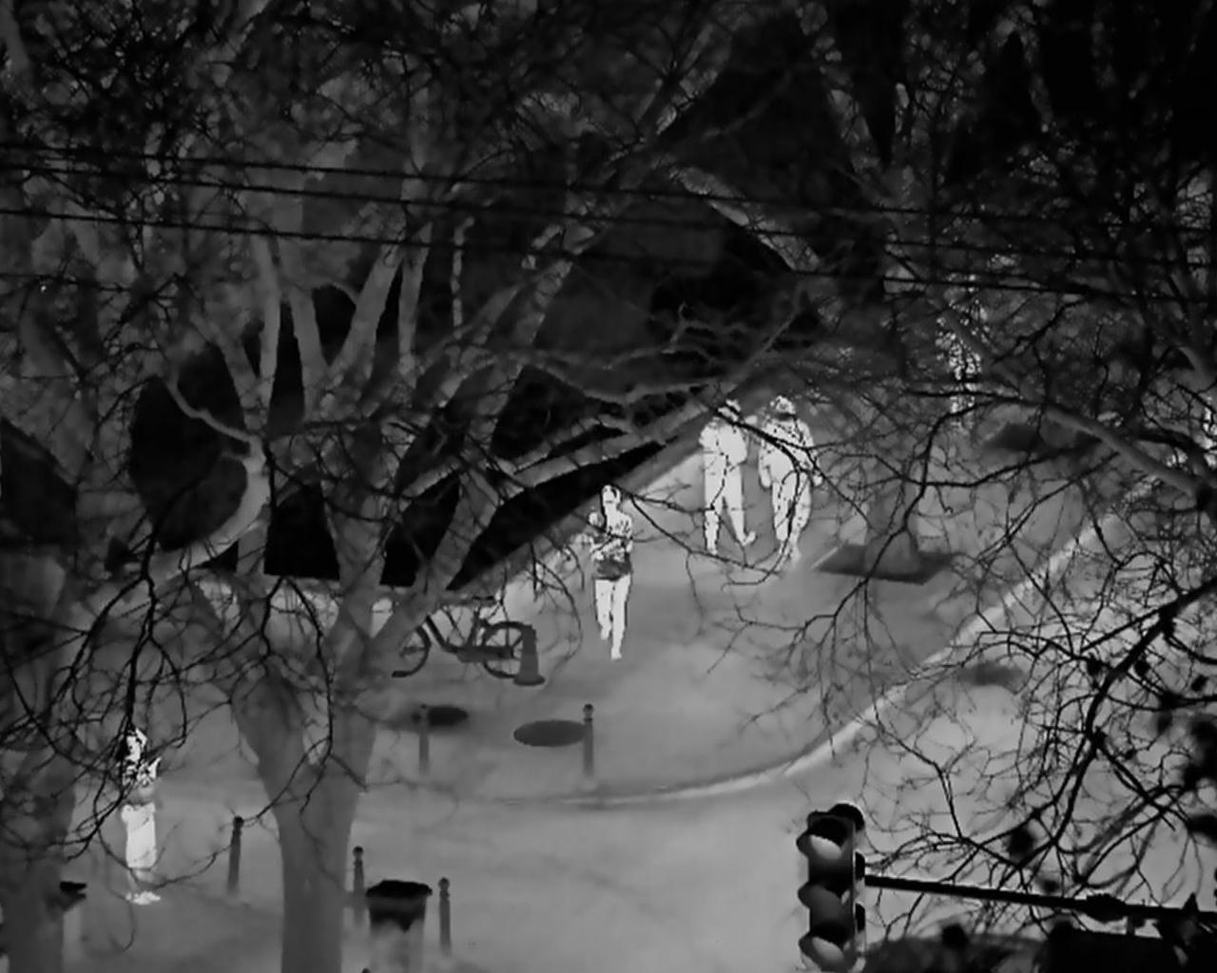person: (755, 396, 824, 566), (580, 485, 639, 663), (698, 394, 755, 557), (120, 726, 166, 906)
